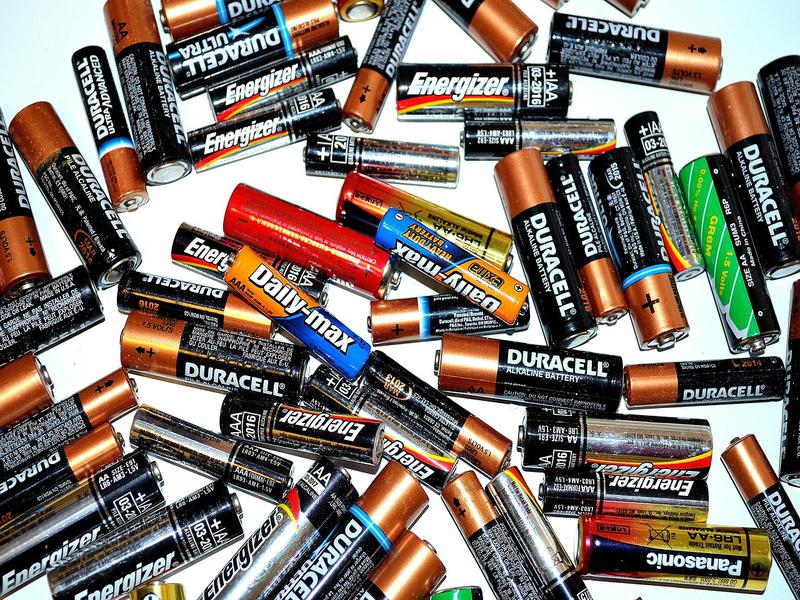battery: (5, 96, 146, 295), (488, 146, 605, 352), (214, 181, 408, 305), (673, 152, 783, 361), (584, 144, 692, 355), (430, 324, 627, 423), (573, 504, 775, 600), (115, 307, 312, 405), (97, 1, 197, 190), (124, 404, 296, 507), (541, 7, 726, 98), (506, 404, 717, 483), (209, 385, 390, 469), (390, 55, 577, 129), (620, 354, 790, 415), (295, 130, 467, 186)
